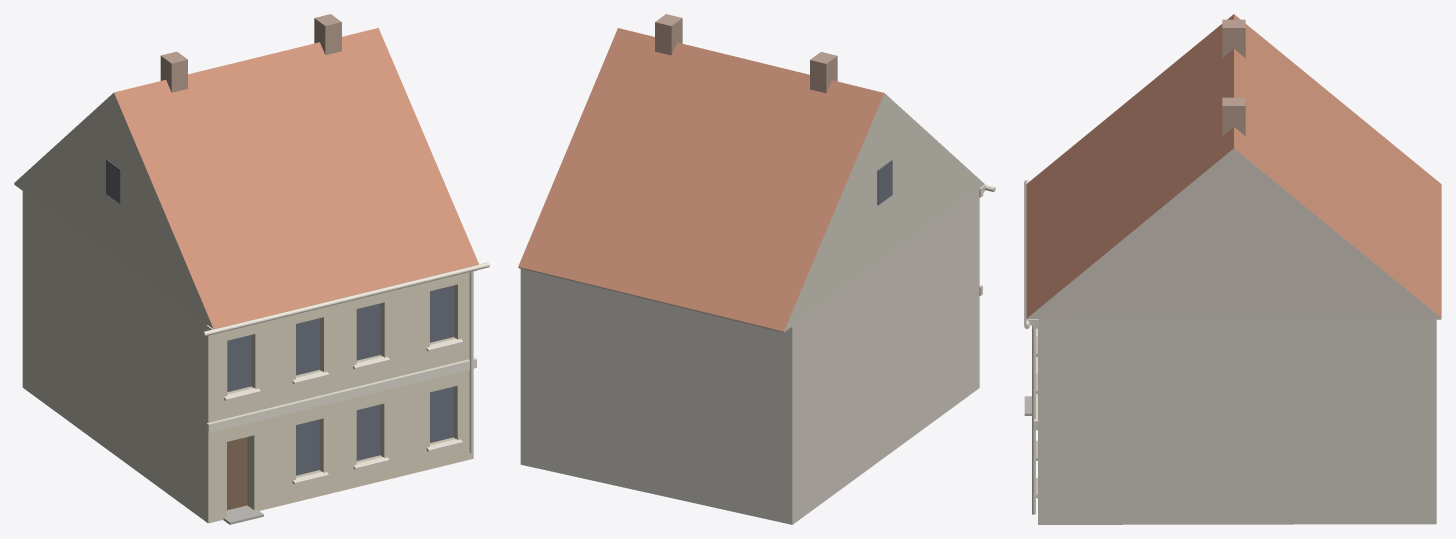
The picture shows the model from 3 angles, left to right: view 1: azimuth 30°, elevation 25°; view 2: azimuth 150°, elevation 25°; view 3: azimuth 270°, elevation 25°; orthographic projection. The views are drawn at different scales.
Visible parts, largest first — view 1: CP_606_Masonry, CP_606_Roof, CP_606_Gable_L_gable, CP_606_Cornice_string_0, CP_606_Gutter, CP_606_Chimney_0, CP_606_Chimney_1, CP_606_Downpipe_0, CP_606_Cornice_main_0; view 2: CP_606_Masonry, CP_606_Roof, CP_606_Gable_L_gable, CP_606_Chimney_0, CP_606_Chimney_1, CP_606_Gable_L_AtticWindow; view 3: CP_606_Masonry, CP_606_Roof, CP_606_Gable_R_gable, CP_606_Chimney_0, CP_606_Chimney_1, CP_606_Downpipe_0.
Part boxes in pixels (box(x1,y1,x2,y2)): CP_606_Masonry: box(22, 189, 473, 523); CP_606_Roof: box(29, 28, 478, 328); CP_606_Gable_L_gable: box(14, 93, 220, 329); CP_606_Cornice_string_0: box(206, 357, 476, 432); CP_606_Gutter: box(202, 262, 489, 336); CP_606_Chimney_0: box(160, 51, 187, 92); CP_606_Chimney_1: box(314, 14, 341, 55); CP_606_Downpipe_0: box(469, 271, 473, 453); CP_606_Cornice_main_0: box(206, 263, 480, 335); CP_606_Masonry: box(520, 189, 979, 524); CP_606_Roof: box(518, 28, 965, 331); CP_606_Gable_L_gable: box(776, 93, 984, 331); CP_606_Chimney_0: box(810, 52, 837, 93); CP_606_Chimney_1: box(655, 14, 682, 55); CP_606_Gable_L_AtticWindow: box(877, 160, 892, 205); CP_606_Masonry: box(1038, 318, 1436, 524); CP_606_Roof: box(1026, 14, 1441, 318); CP_606_Gable_R_gable: box(1027, 148, 1441, 318); CP_606_Chimney_0: box(1222, 19, 1245, 57); CP_606_Chimney_1: box(1222, 97, 1245, 135); CP_606_Downpipe_0: box(1032, 326, 1035, 514).
Size of the model in its own units: 10.37 by 13.32 by 12.66.
